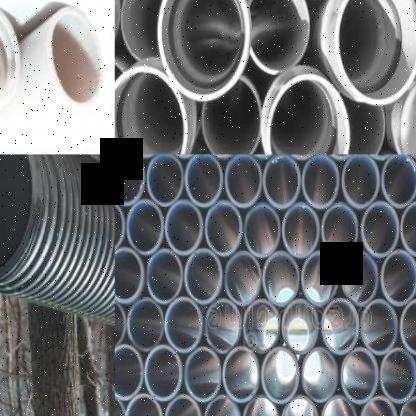pipe: (158, 0, 250, 102), (334, 0, 416, 105), (267, 73, 349, 154), (114, 66, 188, 154), (49, 6, 104, 110), (0, 155, 39, 284), (202, 76, 260, 155), (248, 0, 310, 72), (338, 90, 385, 154), (121, 0, 166, 60), (261, 347, 300, 405), (164, 296, 203, 353), (361, 200, 399, 258), (0, 3, 21, 107), (301, 249, 339, 306), (204, 299, 243, 354), (281, 299, 319, 355), (165, 200, 203, 256), (341, 347, 378, 404), (322, 298, 359, 355), (146, 247, 183, 304), (184, 248, 222, 303), (321, 203, 359, 258), (302, 346, 339, 402), (145, 345, 182, 401), (225, 250, 262, 306), (341, 250, 378, 306), (262, 250, 299, 306), (282, 202, 319, 258), (127, 200, 164, 256), (184, 154, 223, 207), (224, 346, 260, 403), (341, 154, 379, 208), (301, 154, 339, 208), (379, 348, 416, 403), (380, 249, 416, 305), (224, 154, 262, 207), (361, 299, 398, 353), (243, 299, 280, 353), (127, 298, 164, 352), (243, 203, 280, 257), (263, 154, 300, 208), (185, 347, 221, 402), (205, 202, 242, 255), (146, 154, 183, 206), (380, 154, 416, 207), (115, 345, 144, 399), (115, 248, 144, 302), (115, 154, 144, 205), (124, 392, 163, 416), (400, 298, 416, 355), (400, 202, 416, 258), (280, 394, 319, 416), (319, 394, 357, 416), (164, 394, 201, 416), (359, 395, 397, 416), (203, 395, 241, 416), (242, 395, 279, 416), (405, 0, 416, 70), (115, 297, 127, 352), (115, 200, 125, 256), (399, 395, 416, 416), (115, 392, 125, 416)
